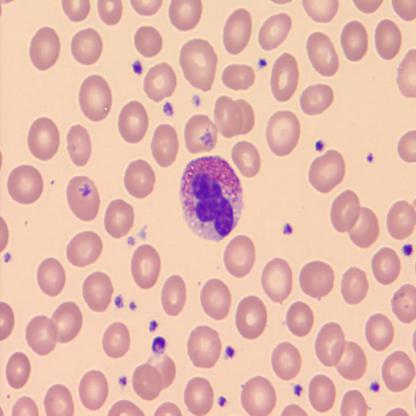Eosinophil: (179, 155, 244, 246)
